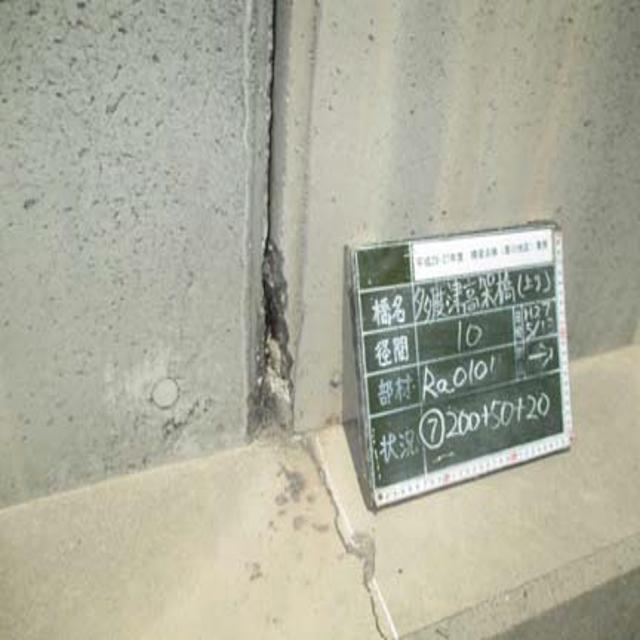spalling: (227, 214, 310, 447)
